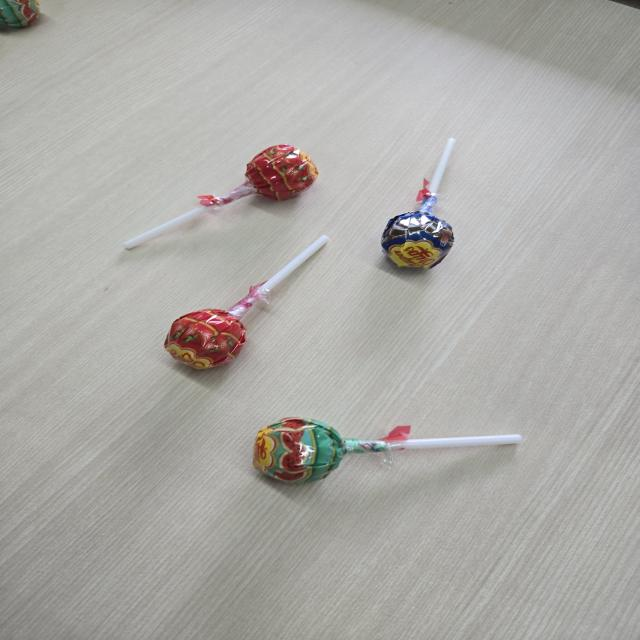lollipop: (164, 230, 334, 376), (247, 410, 534, 491), (118, 144, 321, 250), (380, 134, 472, 276)
